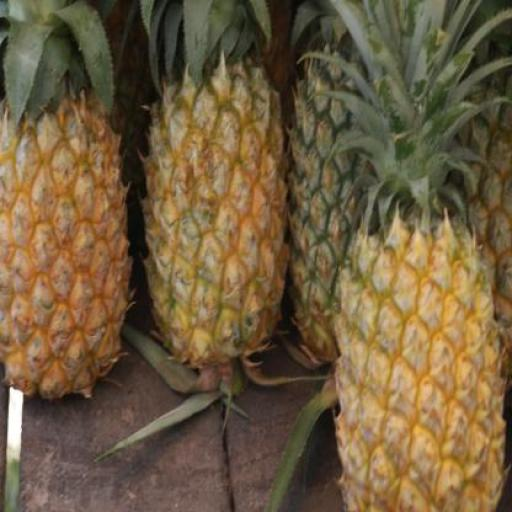------------------------------: (138, 63, 282, 369)
Pineapple - v8 v1: (337, 208, 499, 512), (0, 103, 127, 394)
